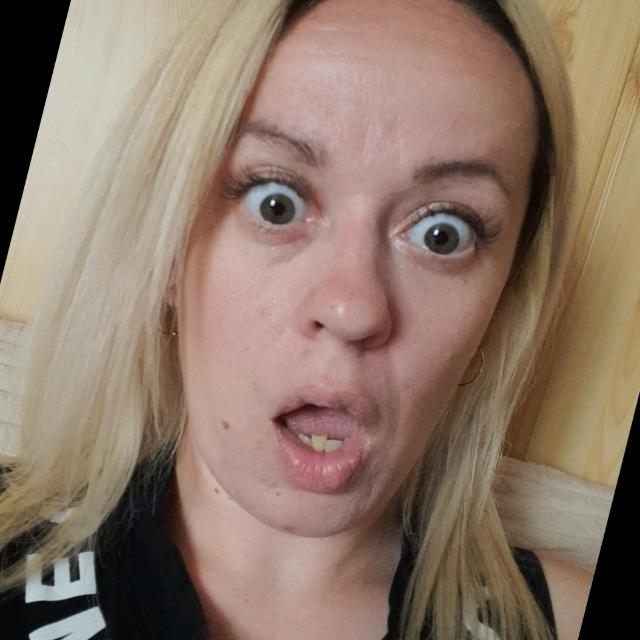Surprised: (161, 48, 533, 531)
